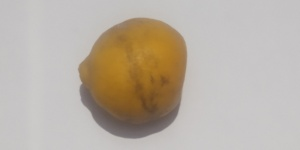BAD: (75, 16, 188, 128)
